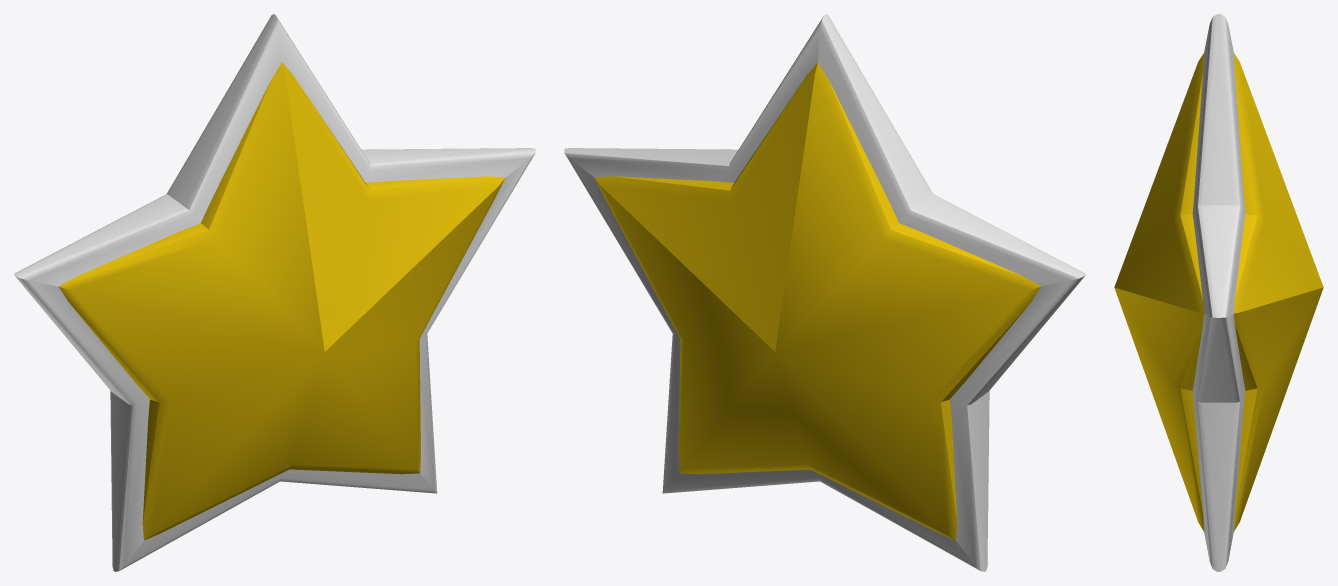
The model's file is star_fix.fbx.
3 views of the same model, side by side, from view 1: azimuth 30°, elevation 25°; view 2: azimuth 150°, elevation 25°; view 3: azimuth 270°, elevation 25° (orthographic). The views are drawn at different scales.
Visible parts, largest first — view 1: star_inSide, star_outSide; view 2: star_inSide, star_outSide; view 3: star_inSide, star_outSide.
Part boxes in pixels (x1,y1,x2,y2): star_inSide: (58,62,505,540); star_outSide: (14,14,535,571); star_inSide: (594,62,1041,540); star_outSide: (564,14,1085,571); star_inSide: (1114,53,1323,531); star_outSide: (1192,14,1245,571).
Size of the model in its own units: 2.26 by 2.15 by 0.8431.
